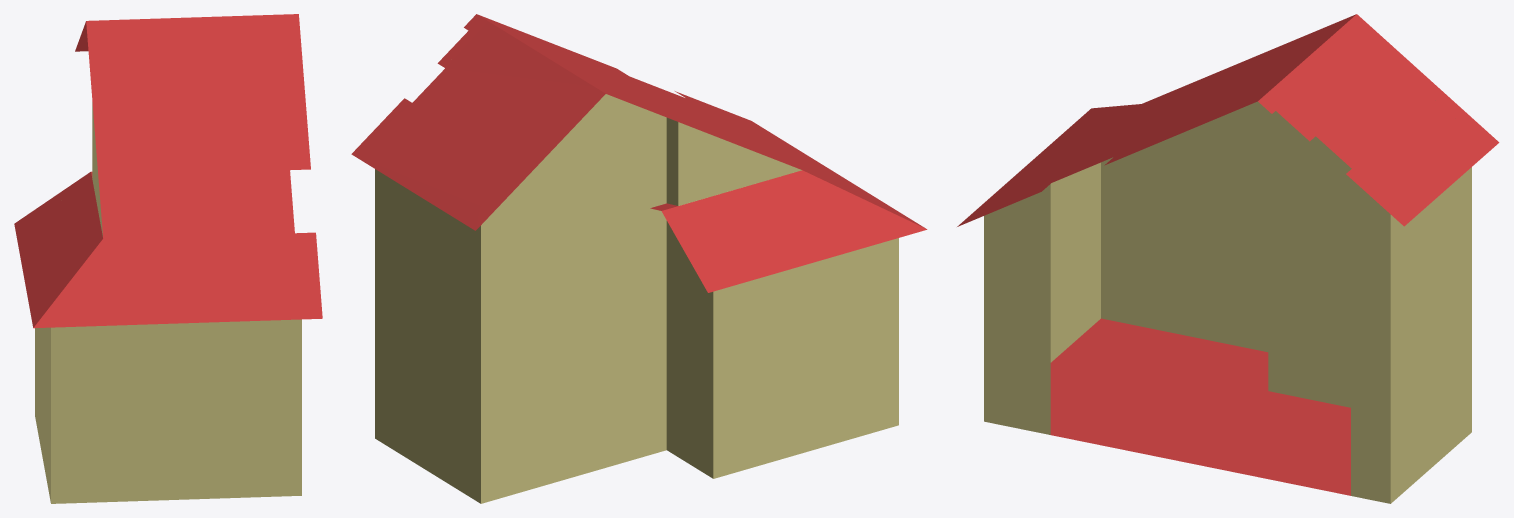
The picture shows the model from 3 angles, left to right: view 1: azimuth 30°, elevation 25°; view 2: azimuth 150°, elevation 25°; view 3: azimuth 270°, elevation 25°; orthographic projection. The views are drawn at different scales.
Size of the model in its own units: 17.6 by 19.66 by 15.39.
